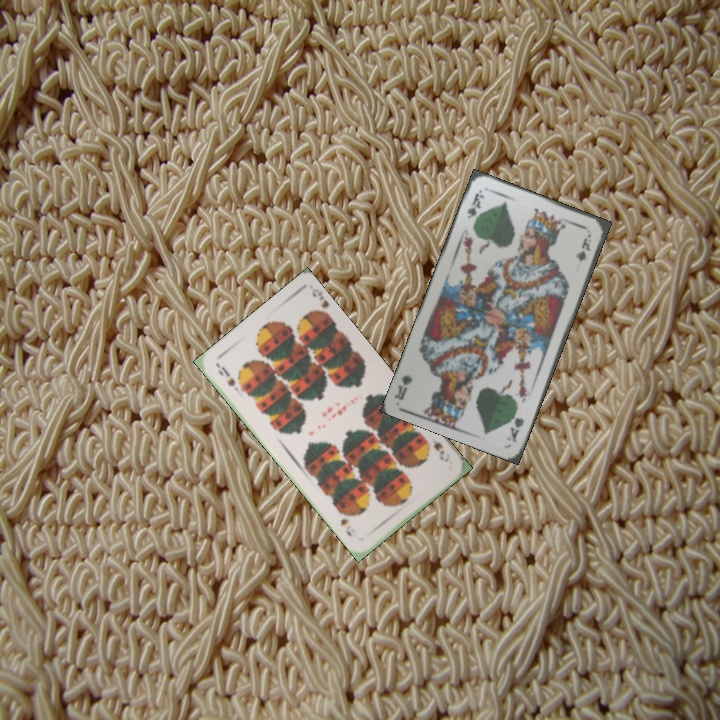GK: (463, 187, 487, 221), (502, 413, 527, 445)
S9: (214, 362, 241, 396), (428, 435, 453, 465)
